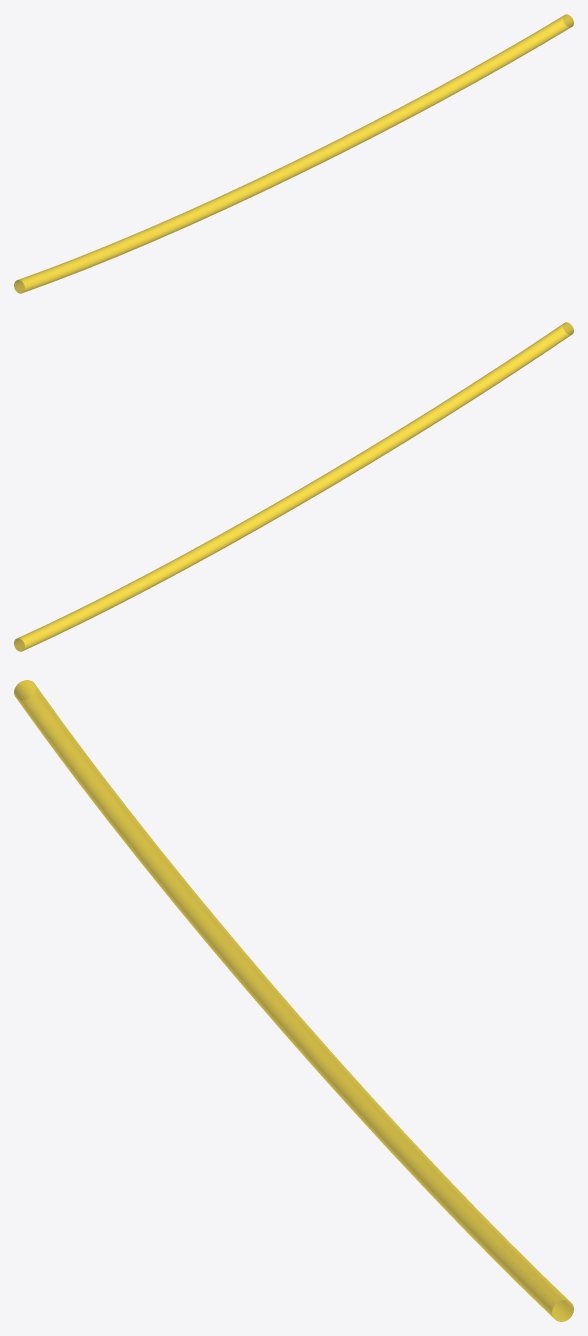
The model's file is Event_84804159_track_97.fbx.
3 views of the same model, one above another, from view 1: azimuth 30°, elevation 25°; view 2: azimuth 210°, elevation 25°; view 3: azimuth 270°, elevation 25° (orthographic). The views are drawn at different scales.
Visible parts, largest first — view 1: Model; view 2: Model; view 3: Model.
Boxes of the visible parts, box(x1,y1,x2,y2) form: Model: box(14, 14, 573, 293); Model: box(14, 322, 573, 651); Model: box(14, 680, 573, 1321).
Size of the model in its own units: 2.34 by 0.1344 by 0.9519.
